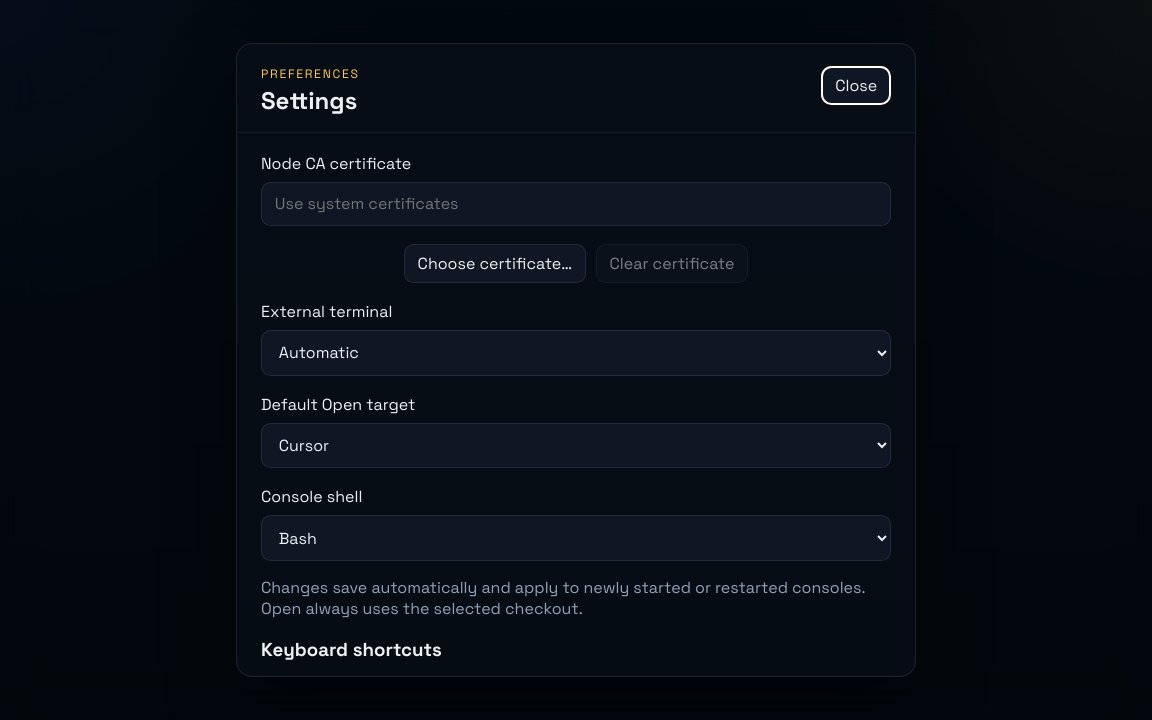
Test: saves preferences, selects a certificate, and presents the shortcuts reference
Select "Folder" in the dropdown labelled "Default Open target" at (576, 445), box left=261, top=422, right=891, bottom=468
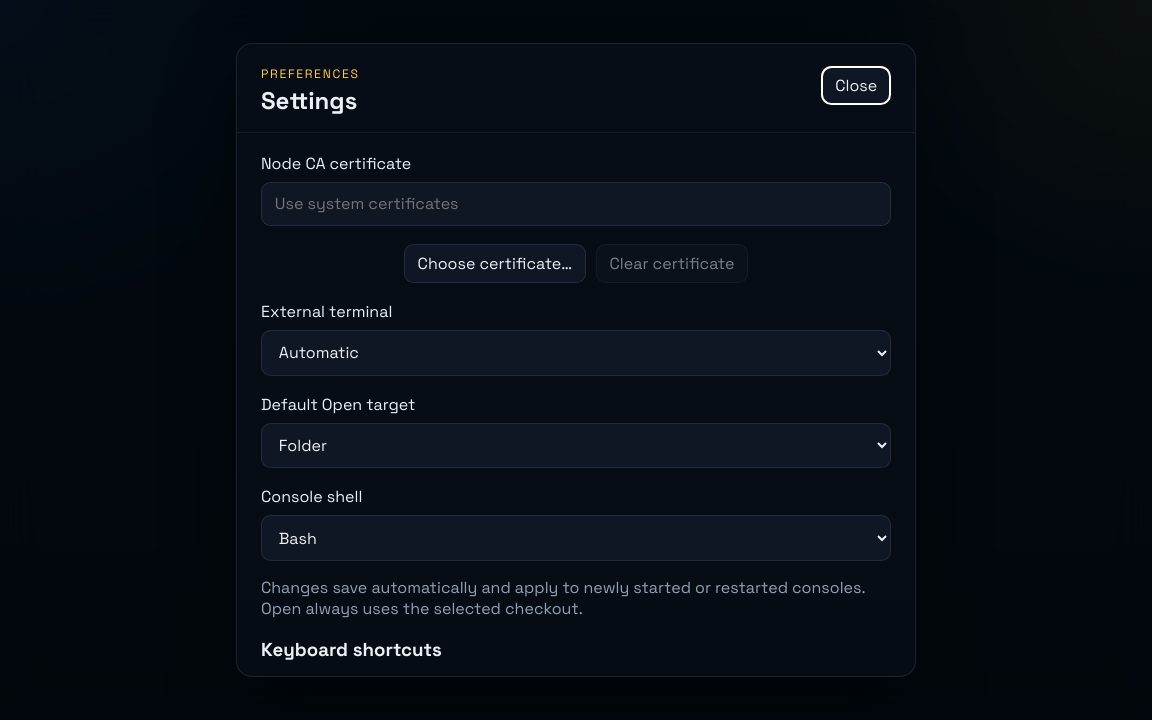
Select "Kitty" in the dropdown labelled "External terminal" at (576, 353), box left=261, top=330, right=891, bottom=376
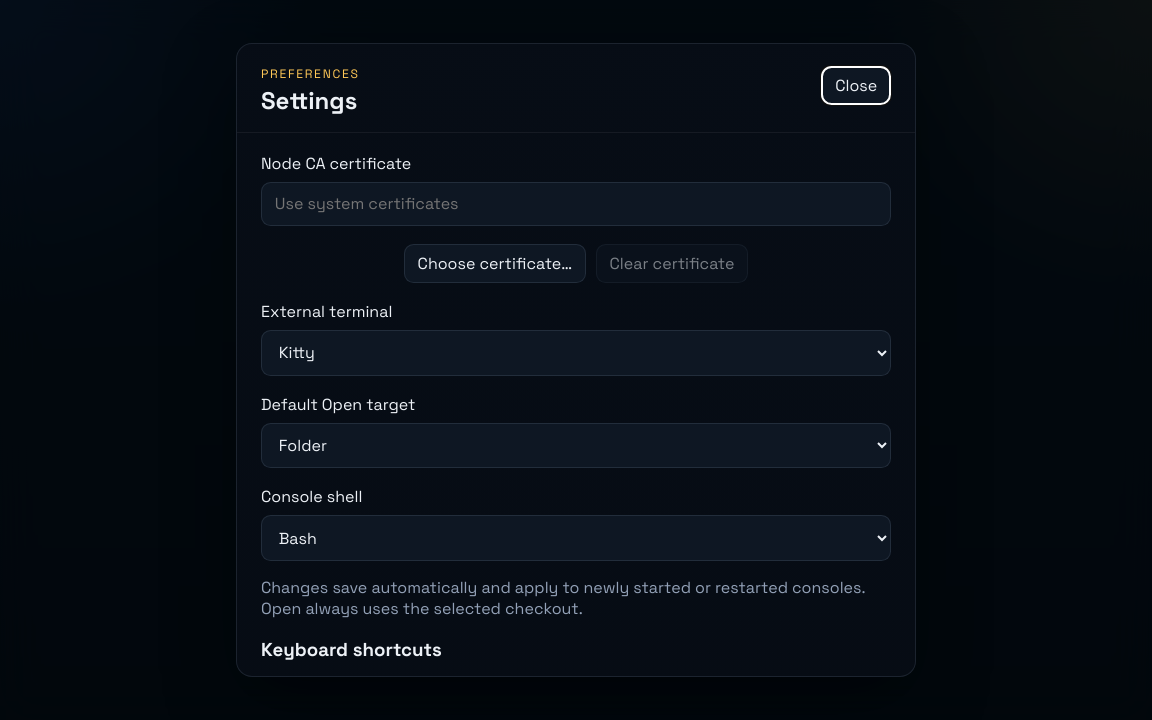
Click the button "Choose certificate…" at (495, 263), box left=404, top=244, right=586, bottom=283
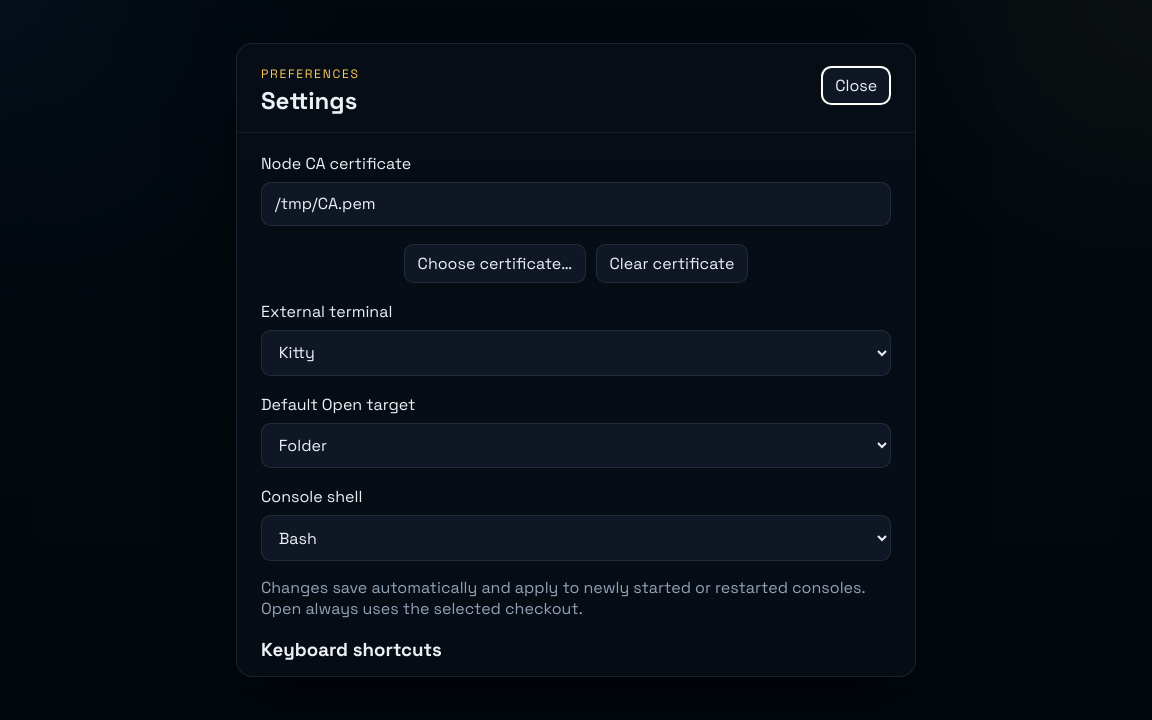
Click the button "Clear certificate" at (672, 263), box left=596, top=244, right=748, bottom=283
(page scrolled)
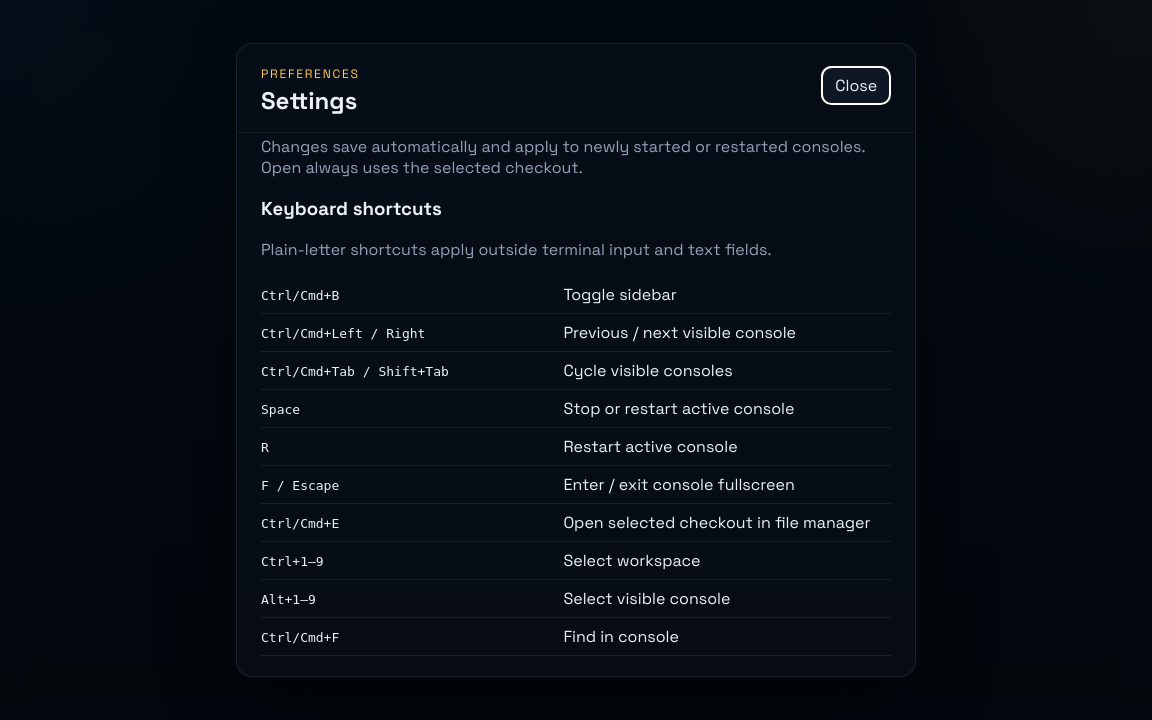
Expected: the text "Ctrl+1–9" is shown, left=261, top=554, right=324, bottom=568
Expected: the text "Restart active console" is shown, left=563, top=427, right=891, bottom=465
